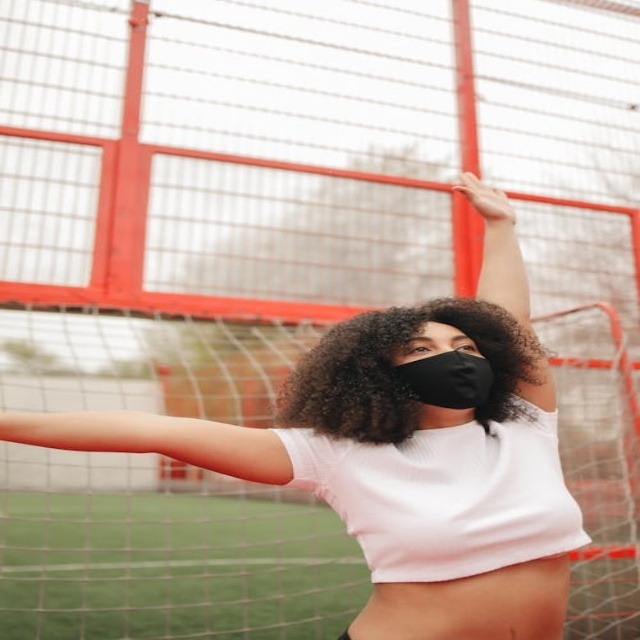Mascara: (390, 349, 496, 410)
Sin_gafas: (410, 346, 432, 353), (457, 345, 476, 352)
Sin_guantes: (443, 163, 526, 225)
